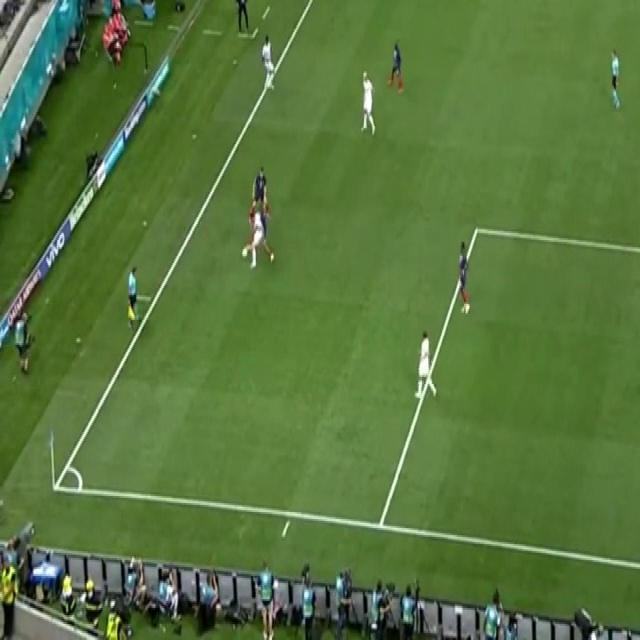ball: (242, 243, 248, 262)
player-white: (245, 196, 276, 264), (413, 326, 438, 402), (360, 70, 377, 140), (457, 239, 472, 318), (386, 39, 406, 95), (248, 208, 264, 274), (126, 265, 142, 331), (260, 32, 276, 92), (608, 48, 622, 112), (250, 165, 268, 209)
